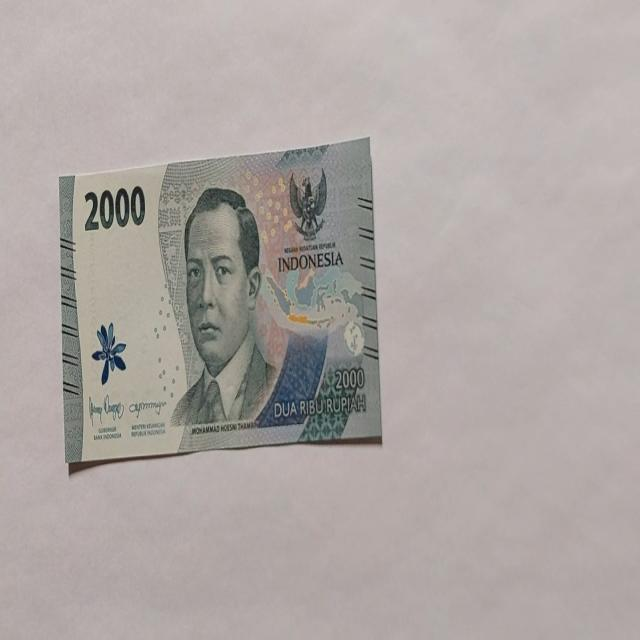dua ribu rupiah: (60, 136, 382, 468), (169, 185, 279, 428)
